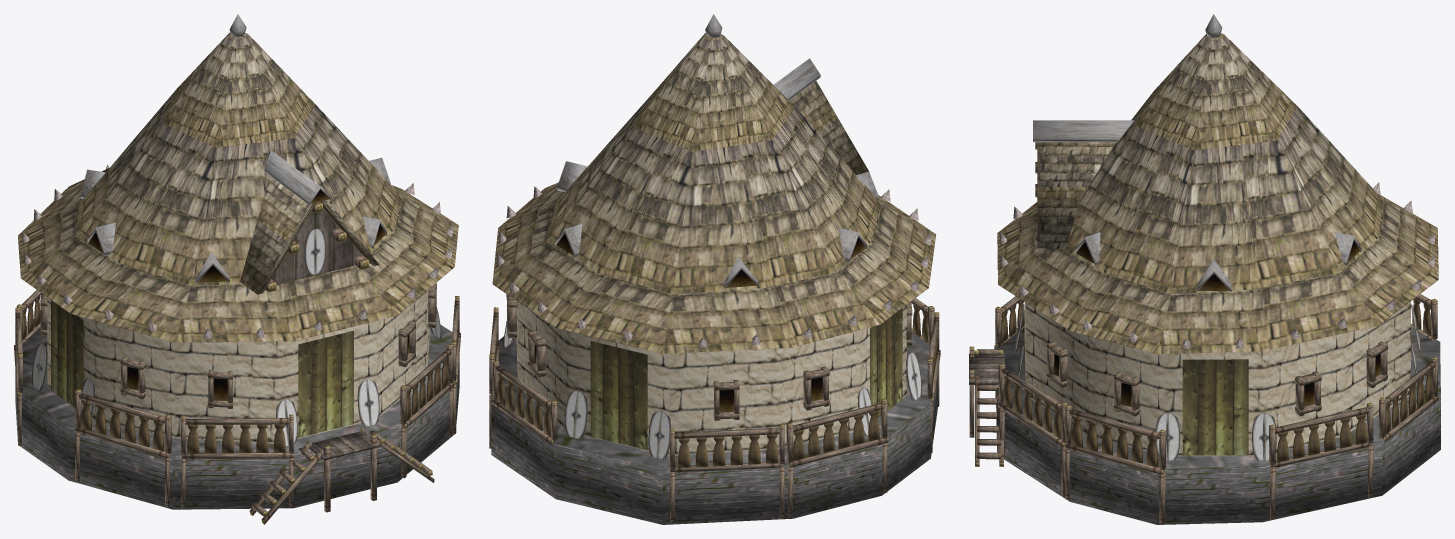
The model's file is assembleia_1.dae.
3 renders of one model, left to right at view 1: azimuth 30°, elevation 25°; view 2: azimuth 150°, elevation 25°; view 3: azimuth 270°, elevation 25°, orthographic. The views are drawn at different scales.
Parts seen in each view (by area): view 1: assembleia_1; view 2: assembleia_1; view 3: assembleia_1.
Boxes of the visible parts, box(x1,y1,x2,y2) form: assembleia_1: box(14, 14, 460, 524); assembleia_1: box(489, 14, 940, 524); assembleia_1: box(969, 14, 1440, 524).
Size of the model in its own units: 23.17 by 23.48 by 22.73.
